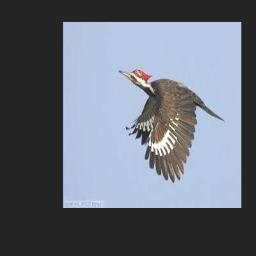Woodpecker: (119, 68, 225, 183)
